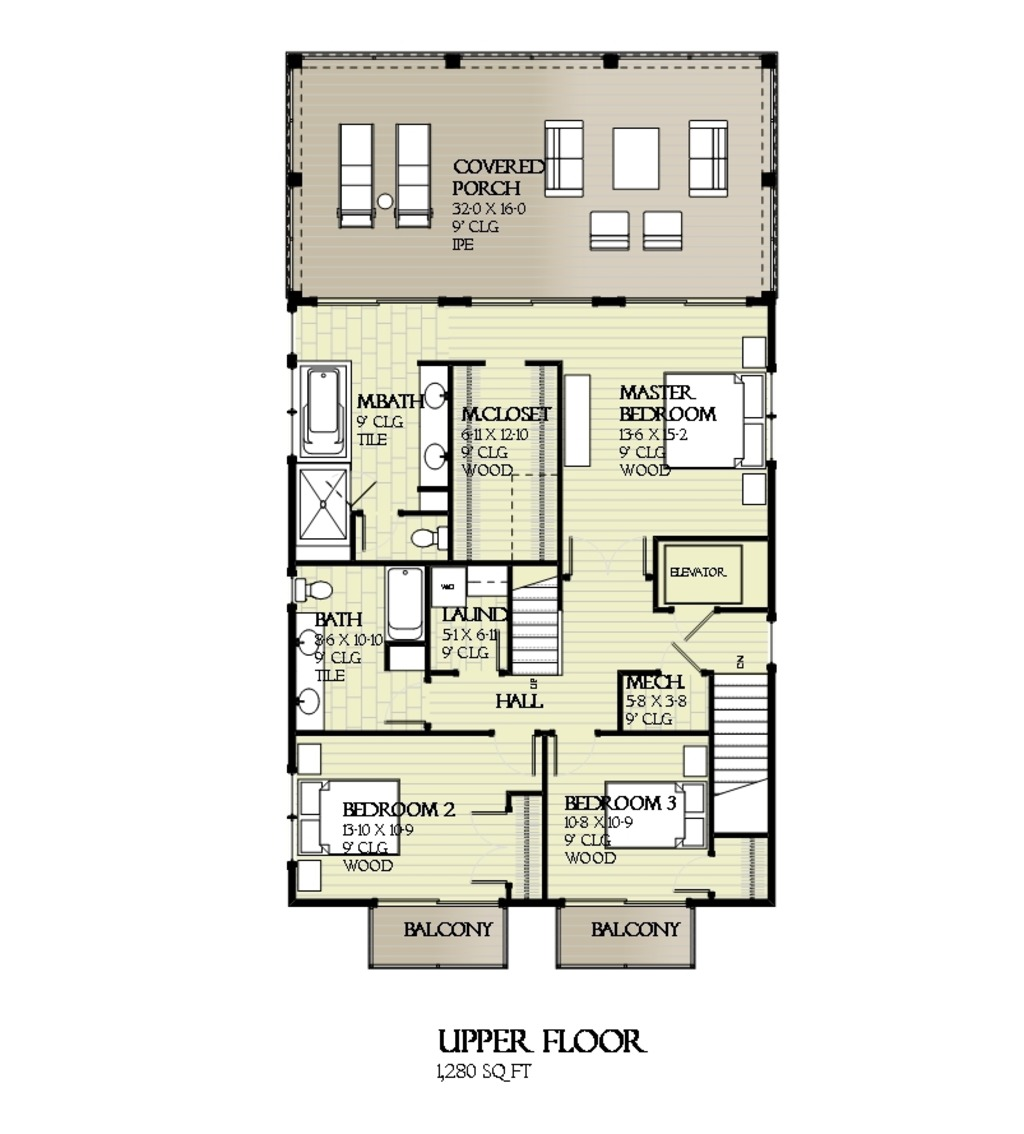bed: (660, 367, 771, 475), (295, 772, 406, 860), (603, 771, 710, 847)
large_sink: (289, 566, 336, 607), (404, 518, 447, 558)
large_sofa: (541, 119, 587, 196), (683, 119, 728, 194)
small_sink: (417, 359, 454, 490), (292, 613, 326, 731)
small_sofa: (586, 207, 632, 246), (640, 209, 682, 250)
stairs: (710, 654, 771, 838), (505, 564, 571, 684)
tub: (294, 362, 352, 454), (376, 565, 427, 643)
windows: (618, 289, 753, 308), (315, 296, 435, 312), (462, 294, 597, 307)
